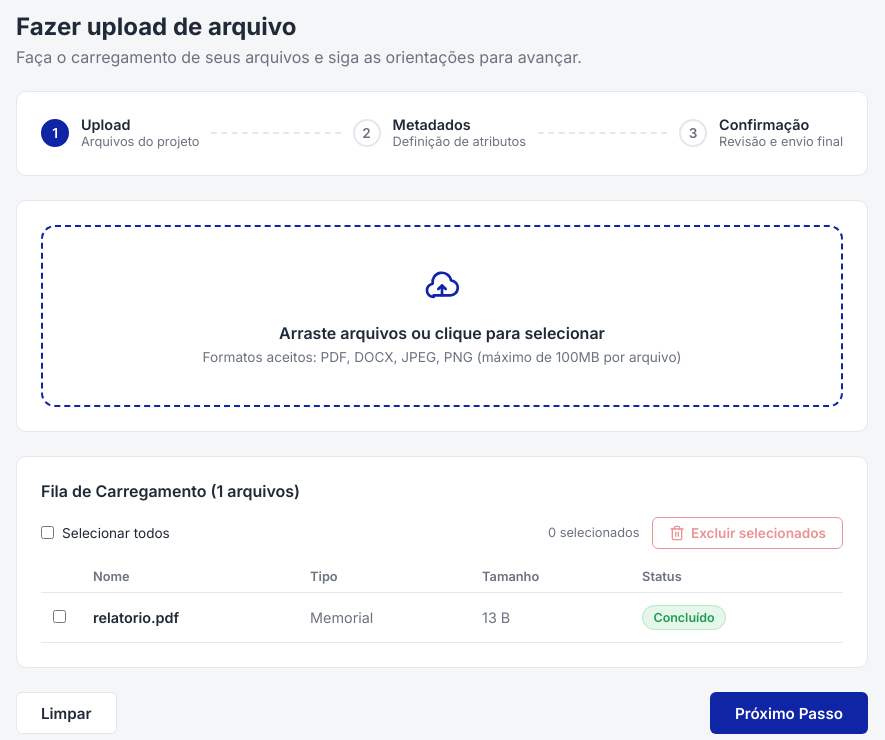
DocumentUploadView › should clear the queue and the store when clicking Limpar
The image size is (885, 740).
Click the button "Limpar" at (66, 713), box [16, 692, 117, 734]
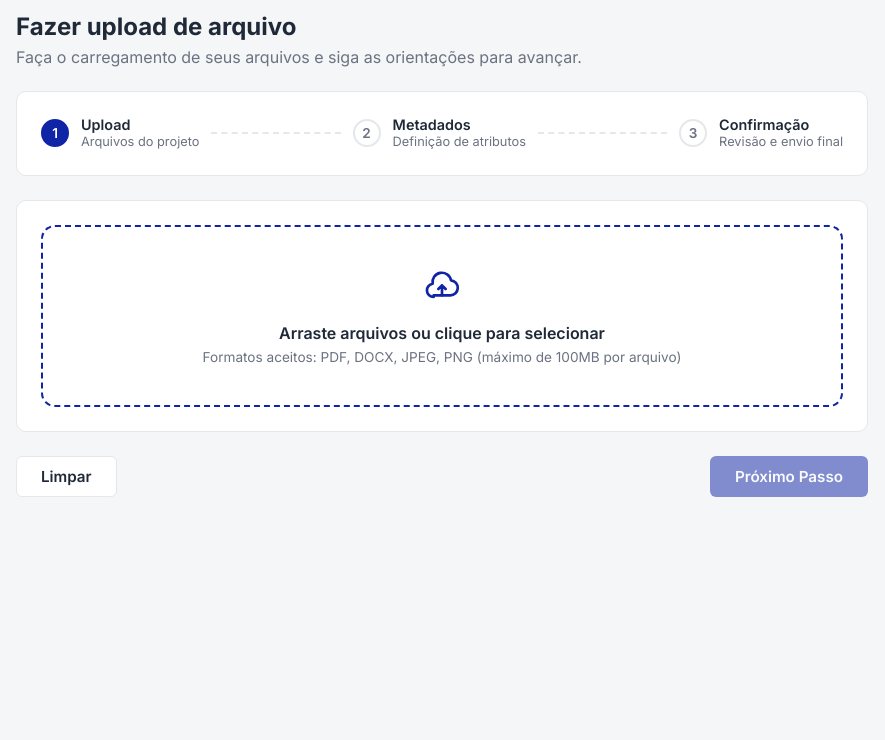
Now the text "relatorio.pdf" is gone
